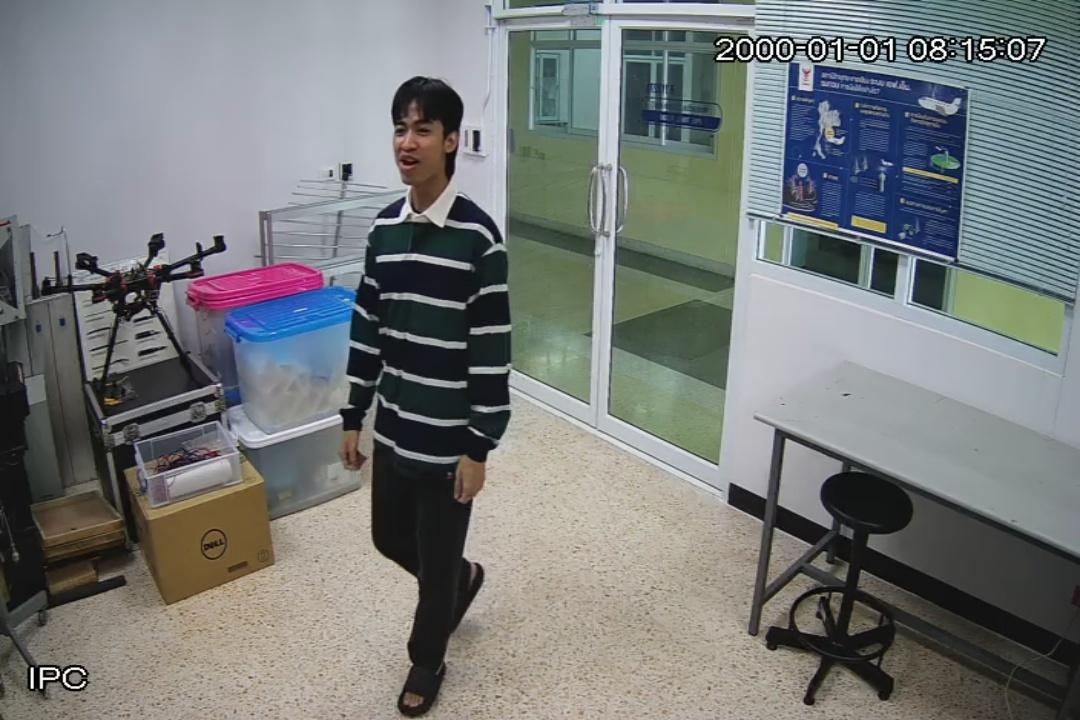normal: (343, 57, 523, 720)
